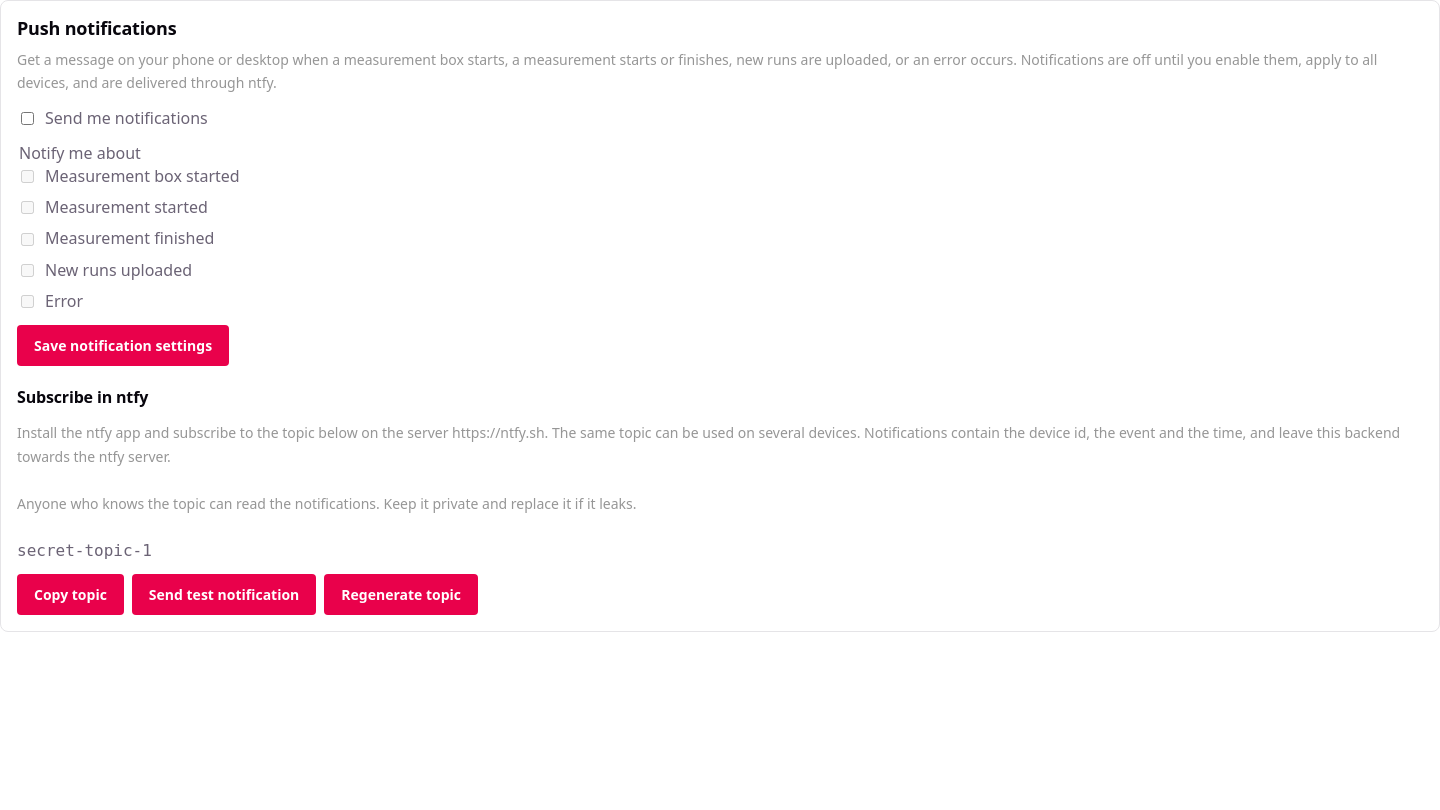
Test: NotificationSettingsSection › saves the master switch and the chosen events
Click the checkbox labelled "Send me notifications" at (28, 118), box [21, 112, 34, 125]
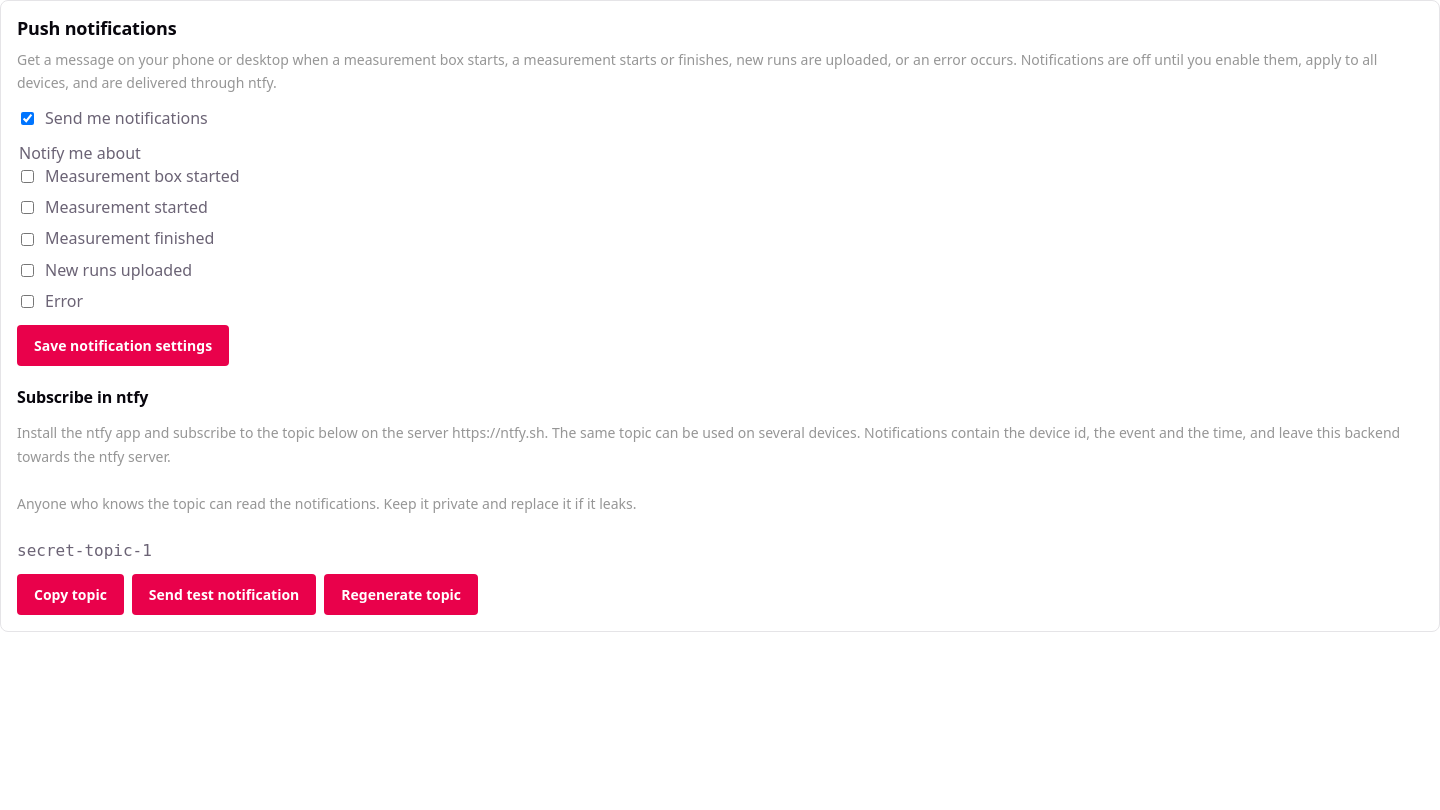
Click the checkbox labelled "Error" at (28, 301), box [21, 295, 34, 308]
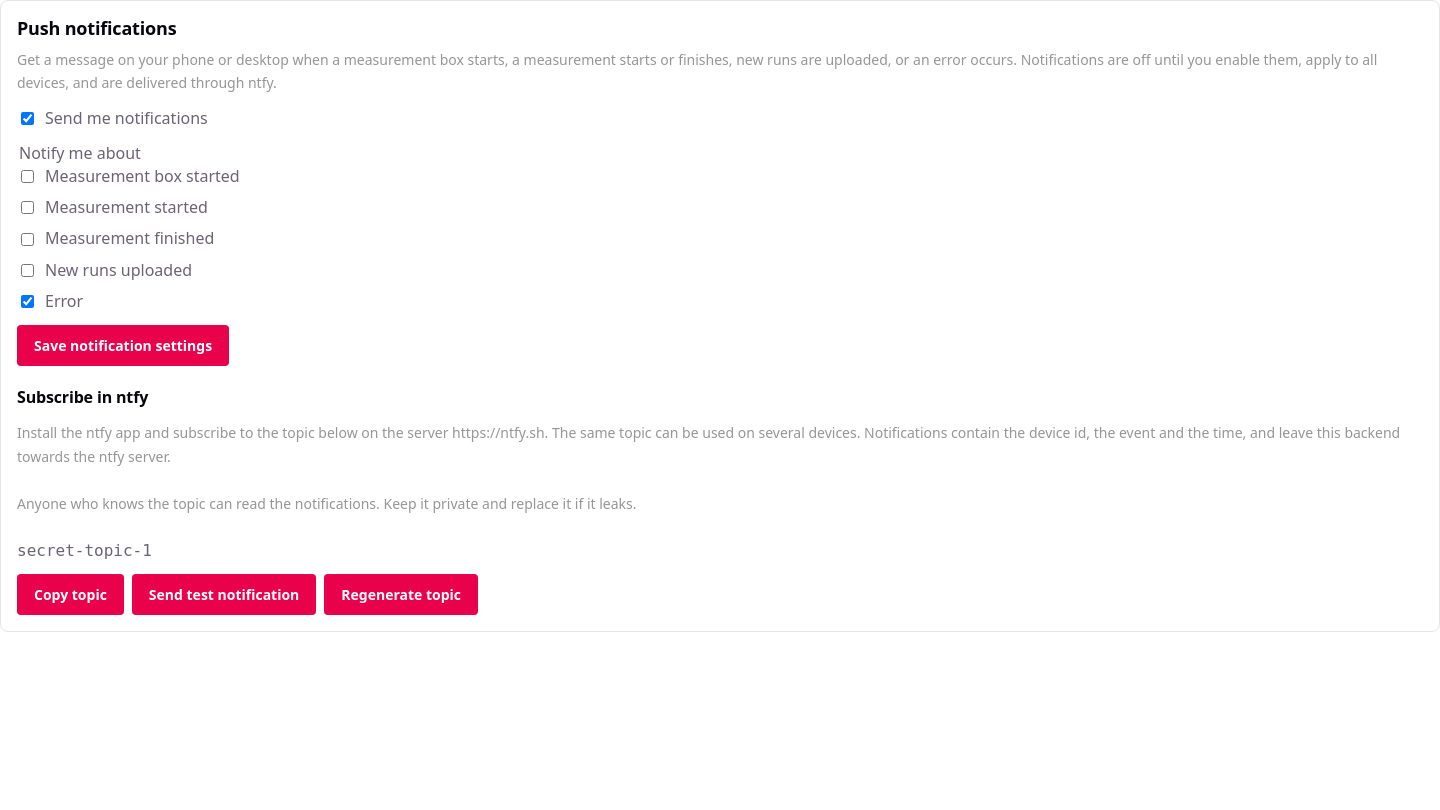
Click the checkbox labelled "New runs uploaded" at (28, 270), box [21, 264, 34, 277]
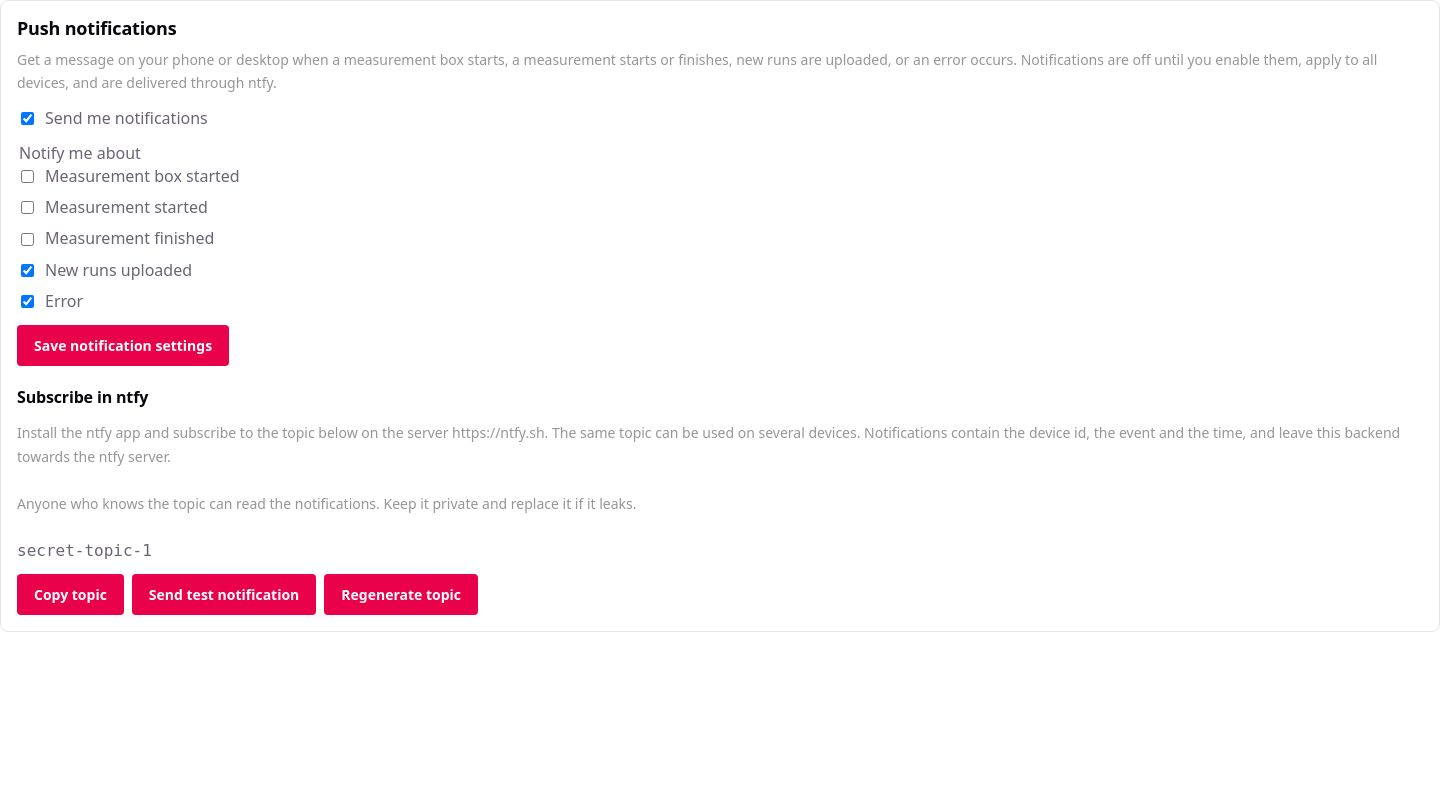
Click the checkbox labelled "Error" at (28, 301), box [21, 295, 34, 308]
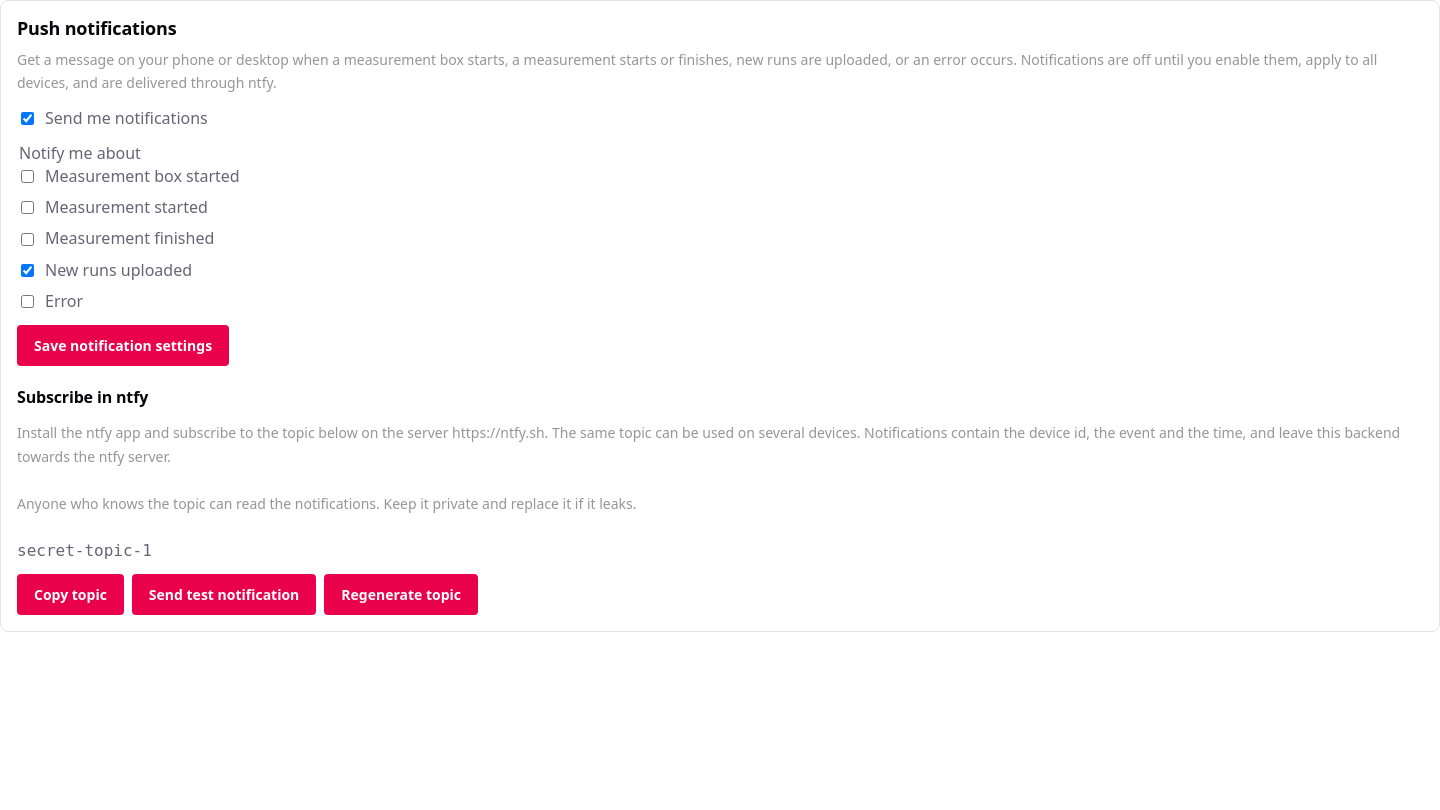
Click the button "Save notification settings" at (123, 346), box [17, 325, 229, 366]
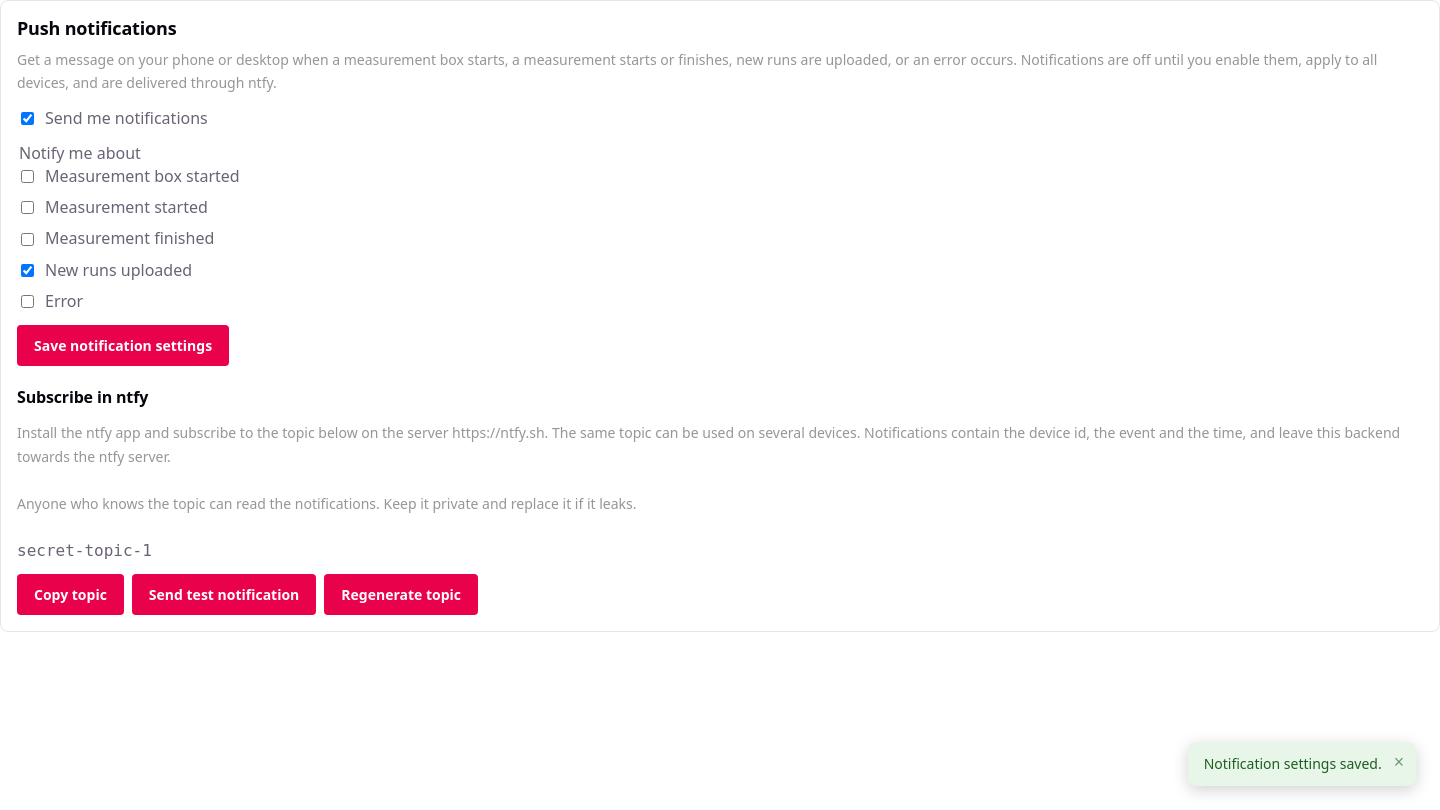
Expected: the text "Notification settings saved." is shown, [1204, 754, 1382, 774]
